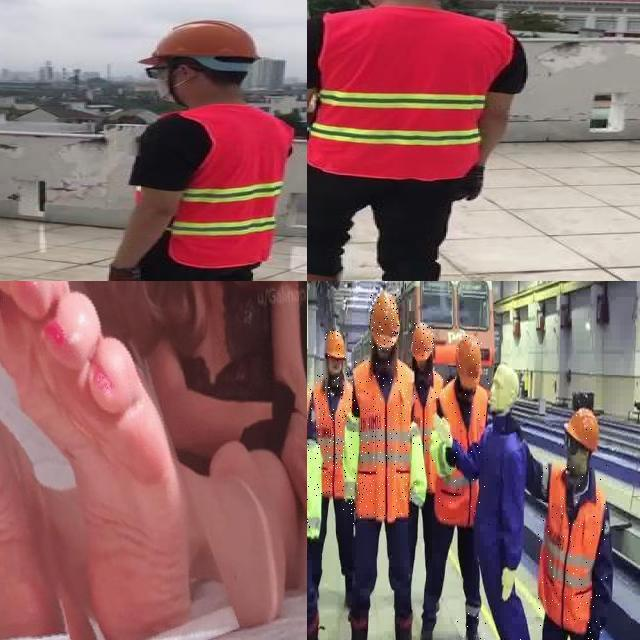Barefoots: (0, 281, 207, 640)
boots: (456, 613, 489, 640)
hand_glove: (455, 164, 487, 200), (103, 266, 151, 281)
head_helmet: (370, 294, 400, 350), (562, 408, 600, 448), (456, 335, 482, 393), (410, 322, 434, 362), (324, 330, 346, 363)
person: (307, 0, 534, 281)
vest: (309, 8, 507, 180), (166, 107, 296, 270), (538, 463, 607, 635), (353, 359, 413, 521), (437, 378, 489, 528), (314, 372, 354, 496), (412, 372, 442, 492)
